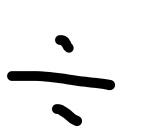div: (8, 36, 116, 126)
